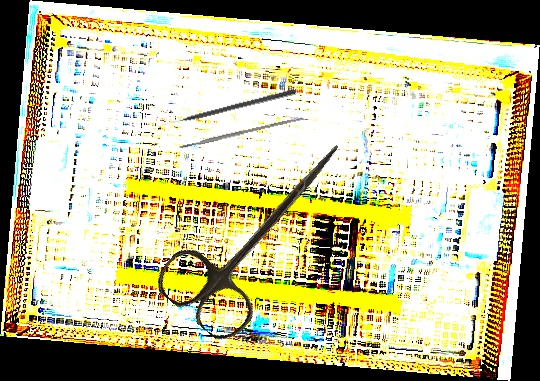Iris Scissors: (149, 110, 373, 349)
Pusher: (161, 87, 297, 128)
Scalpel Handle: (178, 115, 305, 150)
